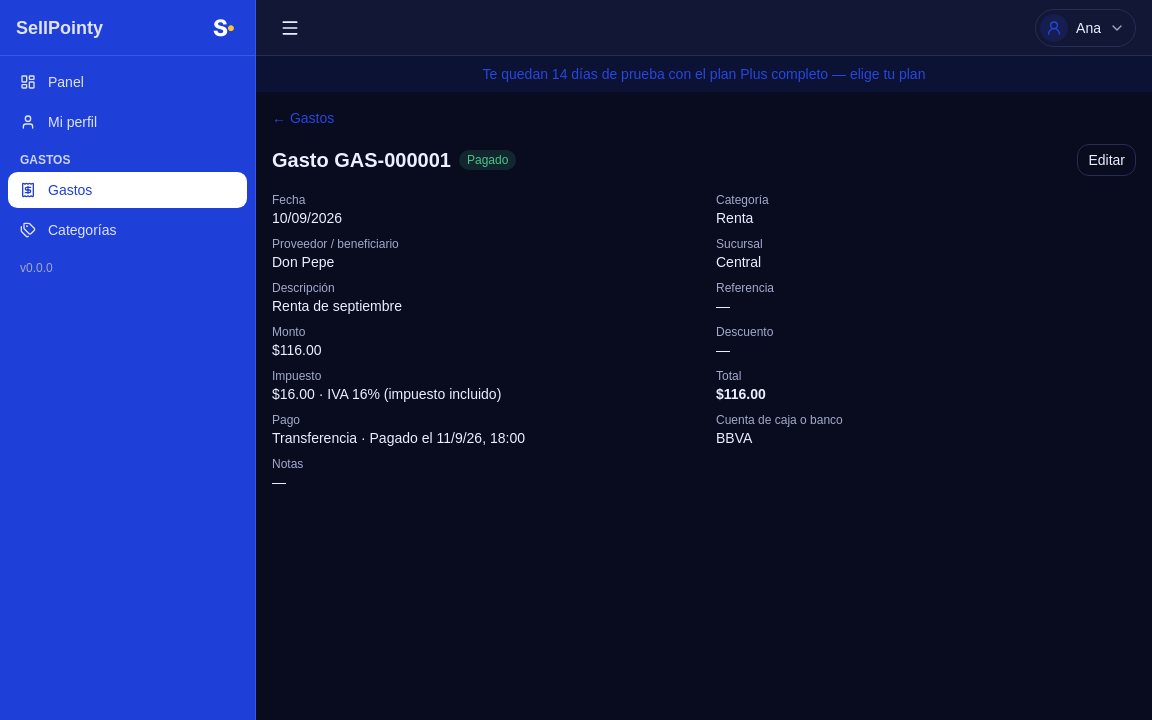
Test: Gastos — listado (F9-EXP-13) › editar un gasto pagado muestra su cuenta y no el vencimiento
Click the button "Editar". click: {"x": 1107, "y": 160}
box: 1077,144 -> 1136,176
(page scrolled)
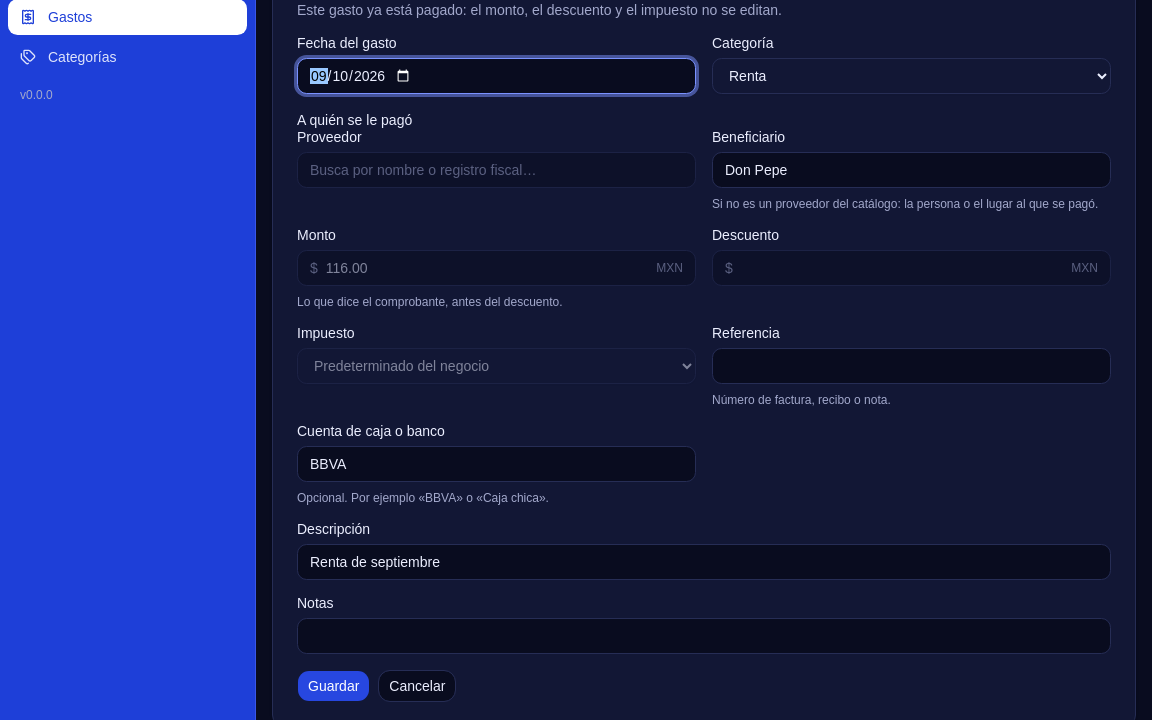
Check: the field labelled "Cuenta de caja o banco" holds "BBVA", box 297,446 -> 696,482
